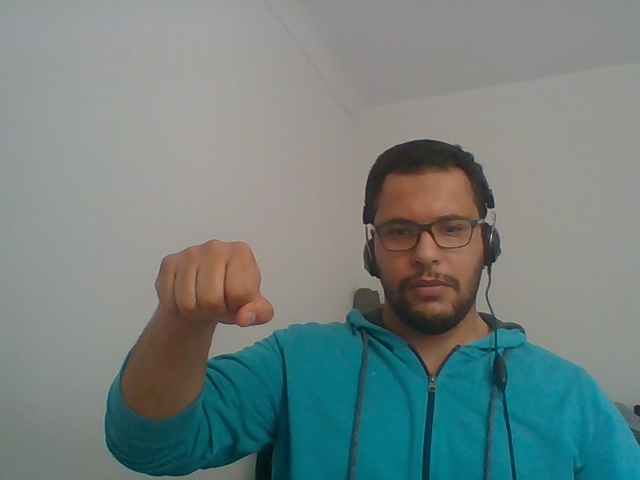yes: (127, 214, 286, 379)
